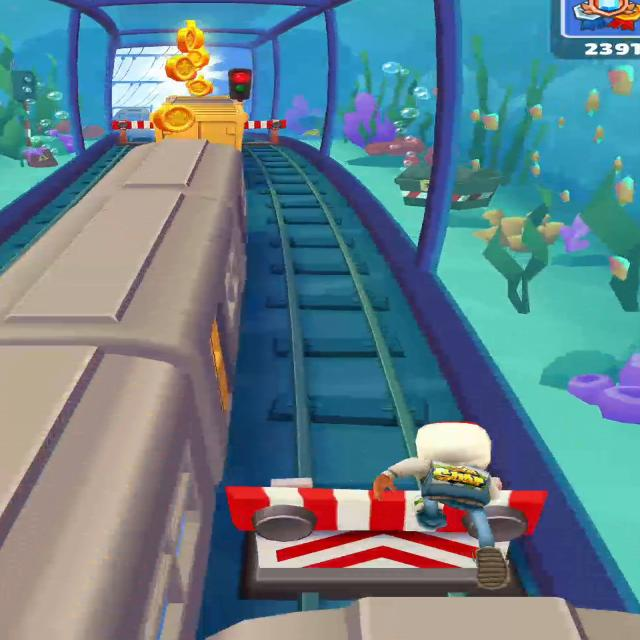blocker: (112, 120, 154, 143), (245, 120, 286, 143)
roll blocker: (227, 478, 489, 599), (486, 491, 546, 556)
train: (0, 140, 246, 466), (0, 346, 213, 640), (153, 96, 247, 150)
